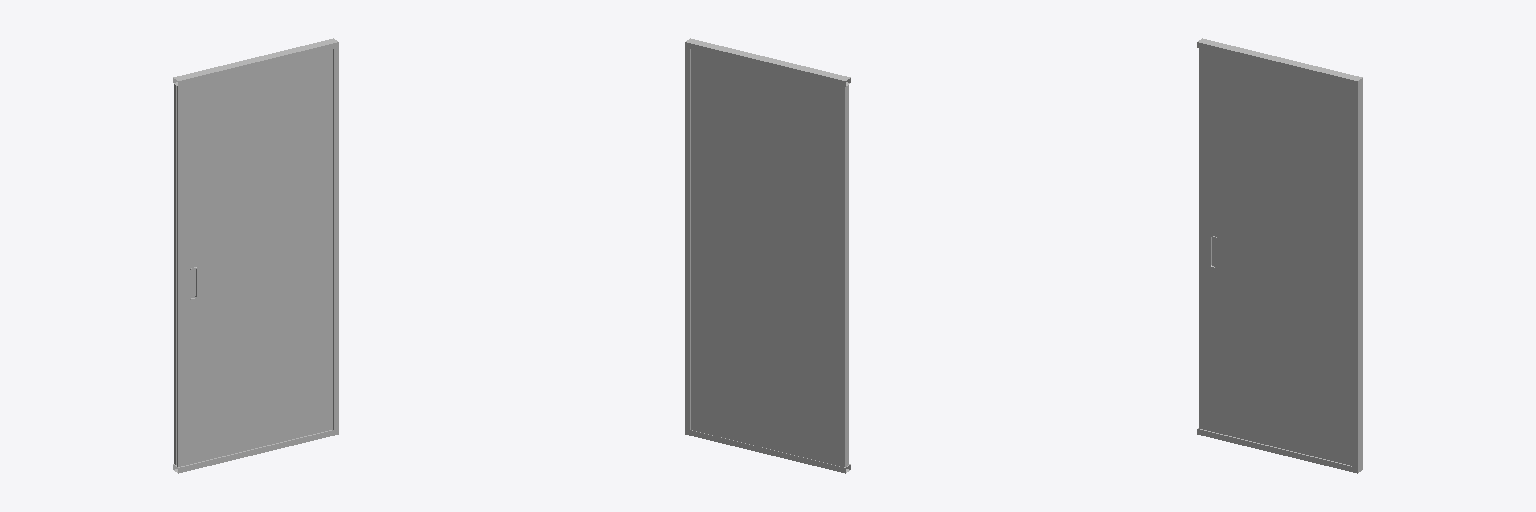
File: PlainDoor.obj
3 renders of one model, left to right at view 1: azimuth 30°, elevation 25°; view 2: azimuth 150°, elevation 25°; view 3: azimuth 330°, elevation 25°, orthographic.
Visible parts, largest first — view 1: Door33_obj; view 2: Door33_obj; view 3: Door33_obj.
Boxes of the visible parts, <box> form: Door33_obj: <box>173,38,338,473</box>; Door33_obj: <box>685,38,850,473</box>; Door33_obj: <box>1197,38,1362,473</box>.
Size of the model in its own units: 4.96 by 11.56 by 0.2753.